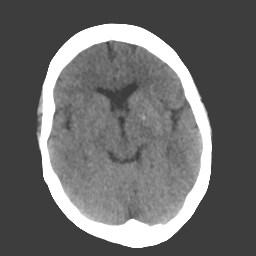ischemic: (78, 92, 111, 136)
